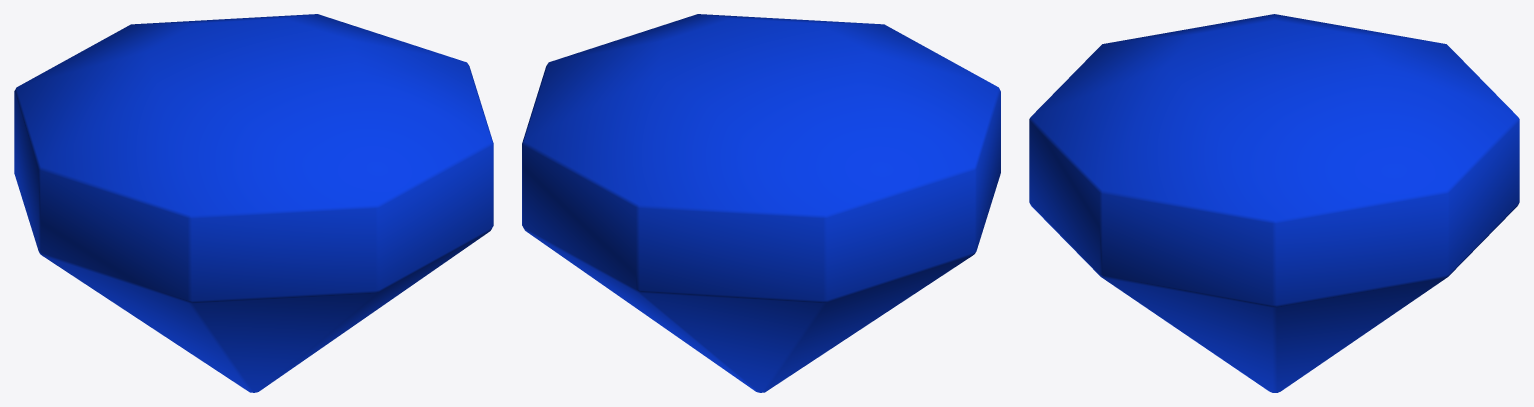
The model's file is jewelry5.fbx.
3 views of the same model, side by side, from view 1: azimuth 30°, elevation 25°; view 2: azimuth 150°, elevation 25°; view 3: azimuth 270°, elevation 25° (orthographic).
Parts seen in each view (by area): view 1: 円.004; view 2: 円.004; view 3: 円.004.
Part boxes in pixels (x1,y1,x2,y2): 円.004: (14,14,493,392); 円.004: (522,14,1000,392); 円.004: (1029,14,1519,392).
Bounding box in the file's own units: 199 × 145 × 199.
